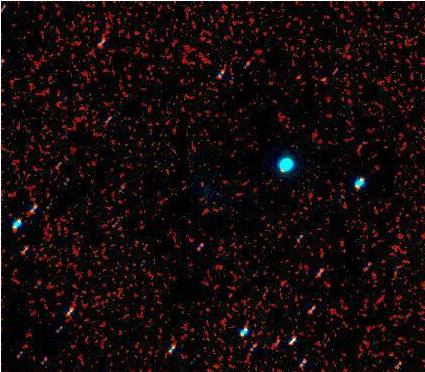star: (314, 57, 344, 87)
